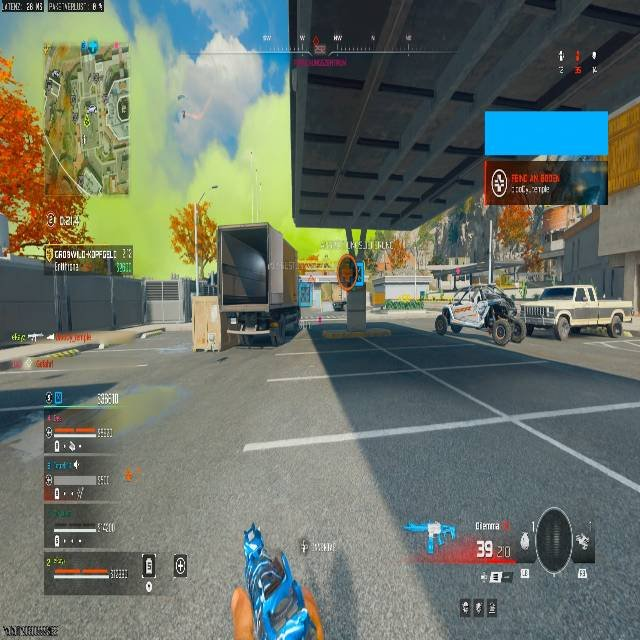player: (162, 28, 260, 176), (481, 293, 518, 345), (433, 305, 456, 336)
